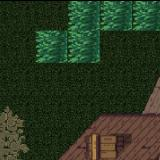Obstacle: (100, 62, 160, 160)
Slow: (67, 0, 160, 30), (37, 29, 100, 62)
